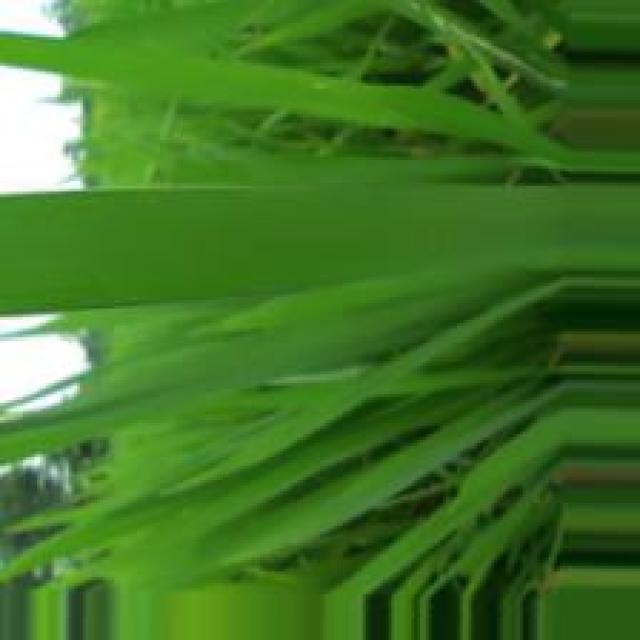HealthyLeaf: (0, 184, 640, 313)
